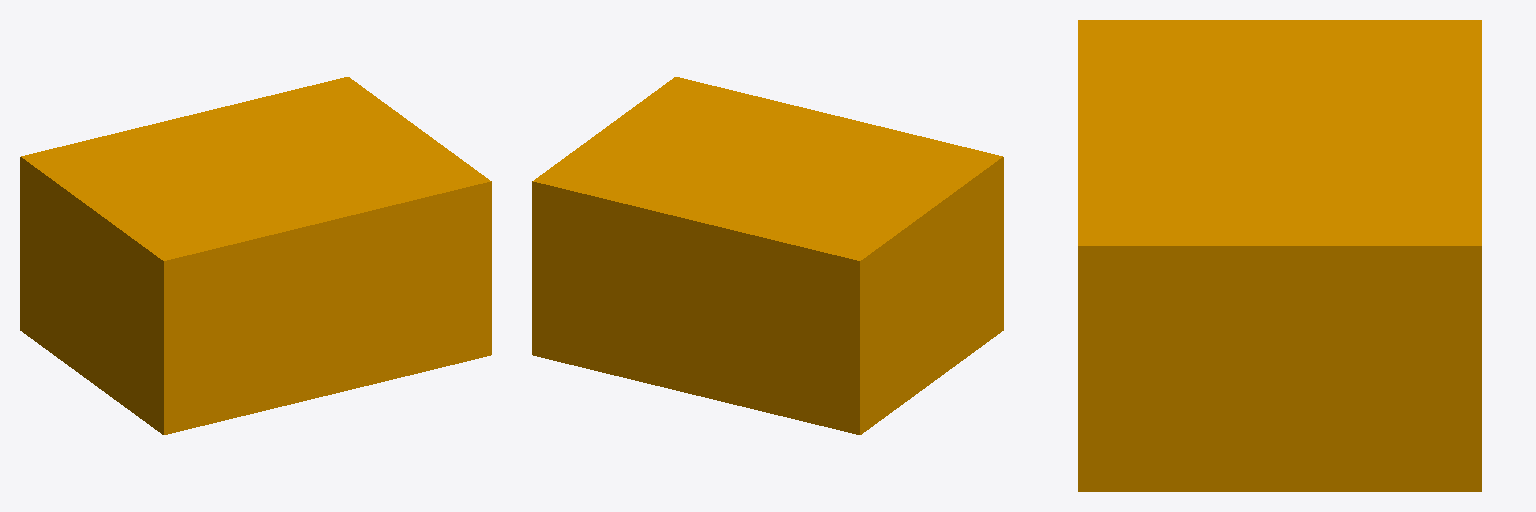
The robot description file, URDF, robot "object":
<?xml version="1.0"?>
<!-- Auto-generated by tools/gen_primitive_objects.py. kind=box dims=(0.094108, 0.071178, 0.047772) -->
<robot name="object">
  <link name="object">
    <visual>
      <origin xyz="0 0 0"/>
      <geometry>
        <box size="0.094108 0.071178 0.047772"/>
      </geometry>
    </visual>
    <collision>
      <origin xyz="0 0 0"/>
      <geometry>
        <box size="0.094108 0.071178 0.047772"/>
      </geometry>
    </collision>
    <inertial>
      <mass value="0.063999"/>
      <inertia ixx="0.00003919" ixy="0.0" ixz="0.0" iyy="0.00005940" iyz="0.0" izz="0.00007425"/>
    </inertial>
  </link>
</robot>

--- What the picture shows (computed from the rendered views, not written in the file) ---
Views: 3 orthographic renders of the robot side by side, from view 1: azimuth 30°, elevation 25°; view 2: azimuth 150°, elevation 25°; view 3: azimuth 270°, elevation 25°.
Robot: object — 1 links, 0 joints (none); root link object; default pose: all joints at 0.
Links seen in each view (by area): view 1: object; view 2: object; view 3: object.
Link boxes in pixels (x1=…): object: x1=20, y1=77, x2=491, y2=434; object: x1=532, y1=77, x2=1003, y2=434; object: x1=1078, y1=20, x2=1481, y2=491.
Size in the robot's own frame: 0.0941 by 0.0712 by 0.0478 metres.
Geometry: primitives only (box / cylinder / sphere), no mesh files.
